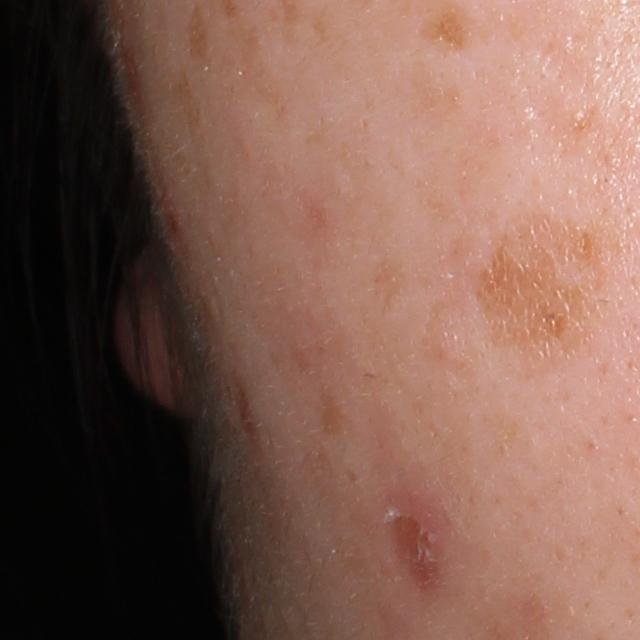melasma: (475, 205, 624, 363), (413, 9, 481, 59), (182, 3, 216, 66), (316, 382, 352, 433)
